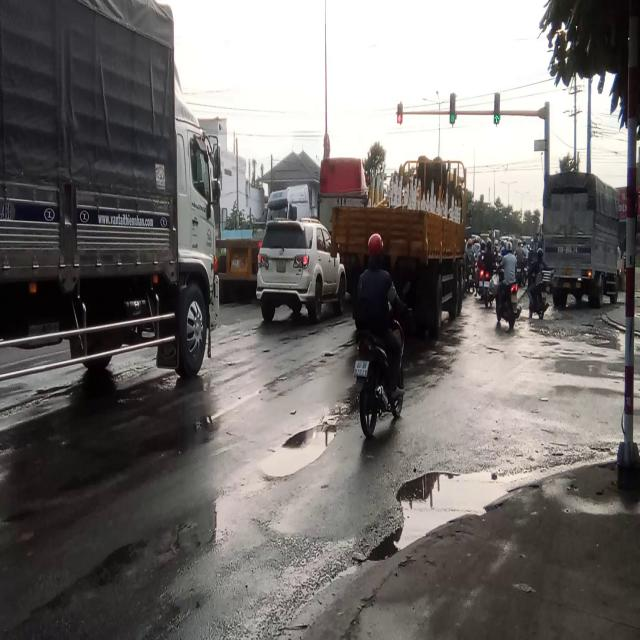bien_trang: (352, 353, 371, 380)
